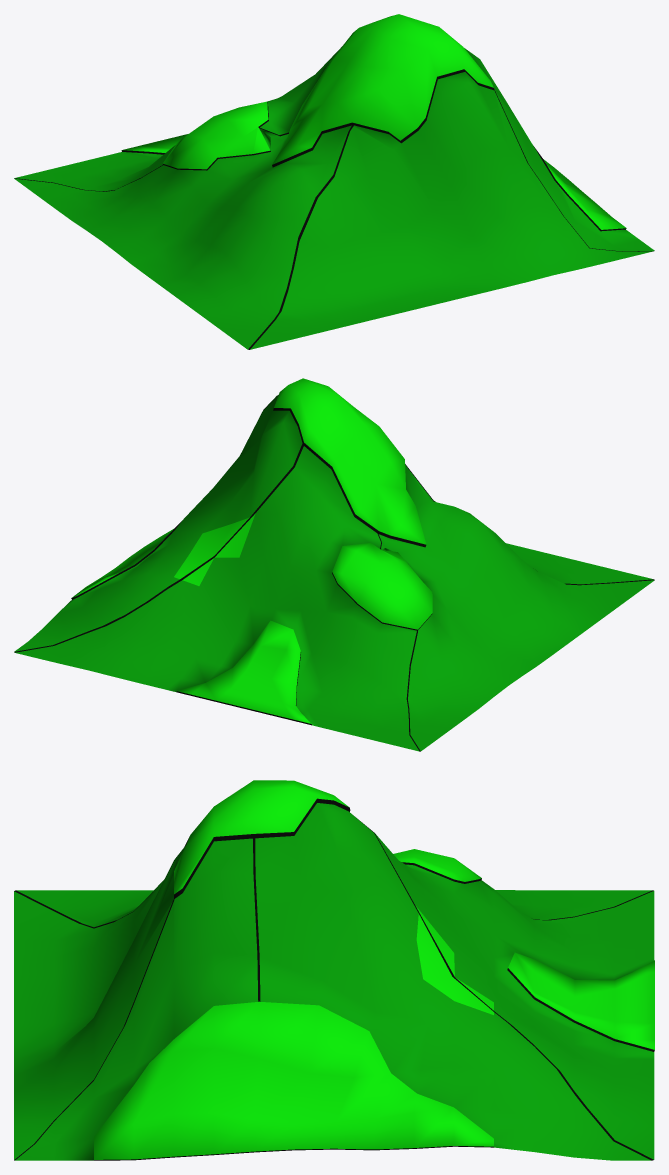
Rendered from PaperMountain02.fbx.
The picture shows the model from 3 angles, top to bottom: view 1: azimuth 30°, elevation 25°; view 2: azimuth 150°, elevation 25°; view 3: azimuth 270°, elevation 25°; orthographic projection. The views are drawn at different scales.
Visible parts, largest first — view 1: Plane.003; view 2: Plane.003; view 3: Plane.003.
Boxes of the visible parts, left/top/right/bottom form: Plane.003: left=14, top=14, right=654, bottom=349; Plane.003: left=14, top=378, right=654, bottom=751; Plane.003: left=14, top=780, right=654, bottom=1160.
Size of the model in its own units: 9968 by 4653 by 9957.
